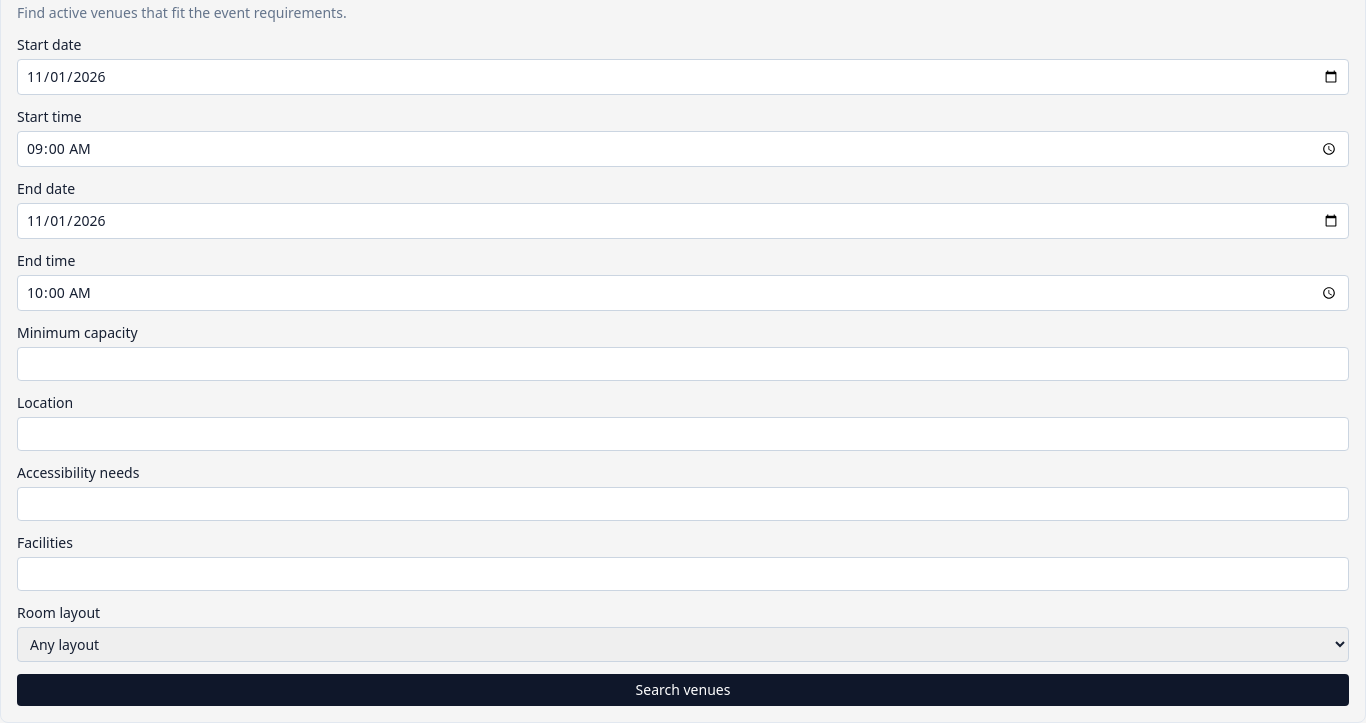
Test case: a failed search says so rather than looking like no matches
(page scrolled)
Click the button "Search venues" at coordinates (683, 690), box [17,674,1349,706]
(page scrolled)
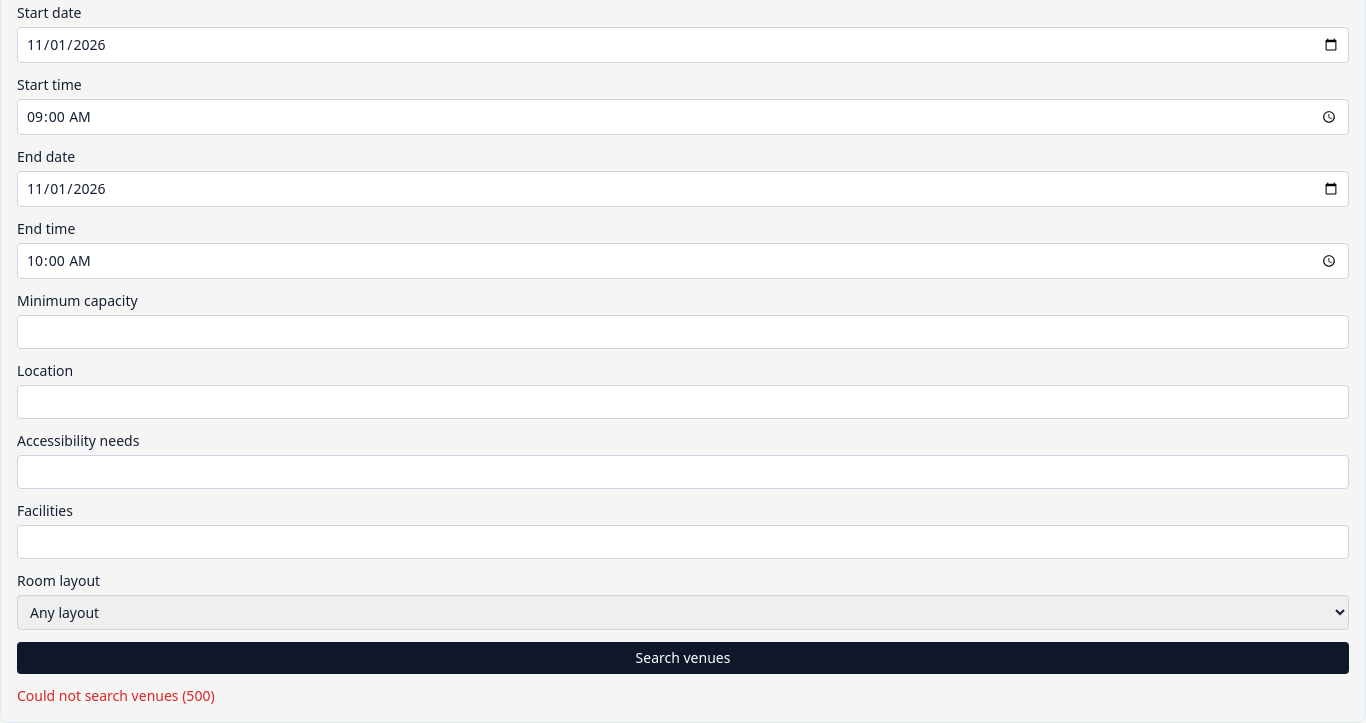
Expected: the message shows "Could not", [17,686,215,705]
